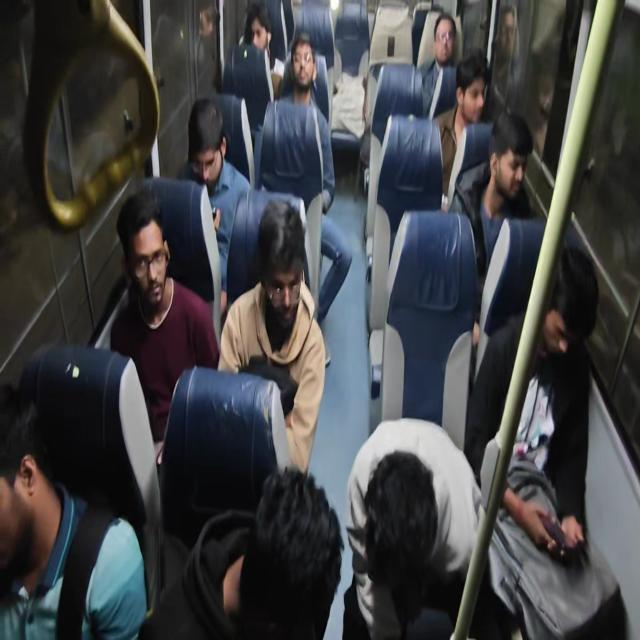person: (342, 416, 627, 638), (464, 244, 599, 552), (138, 465, 344, 638), (0, 400, 148, 639), (343, 416, 485, 638), (258, 31, 352, 363), (110, 189, 220, 466), (217, 198, 326, 474), (177, 96, 251, 312), (449, 109, 534, 273), (432, 49, 488, 210), (484, 2, 523, 122), (240, 2, 284, 99), (420, 12, 458, 118), (195, 1, 221, 98), (529, 69, 555, 159)
